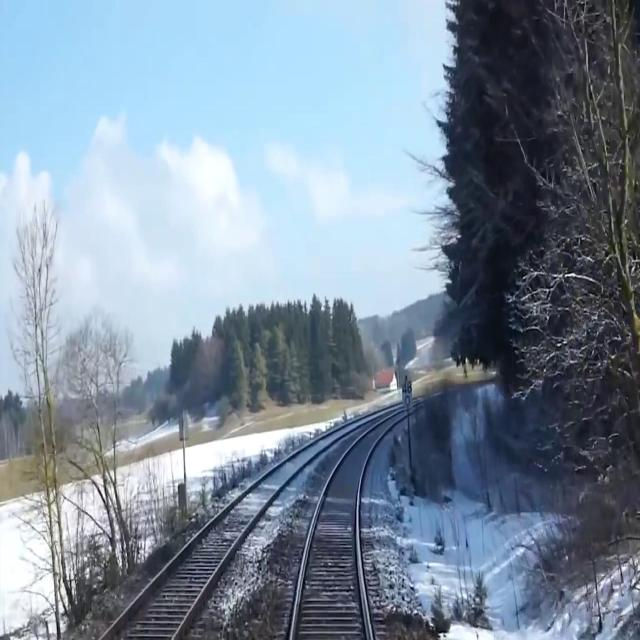rail-track: (104, 438, 329, 639), (294, 420, 391, 639)
